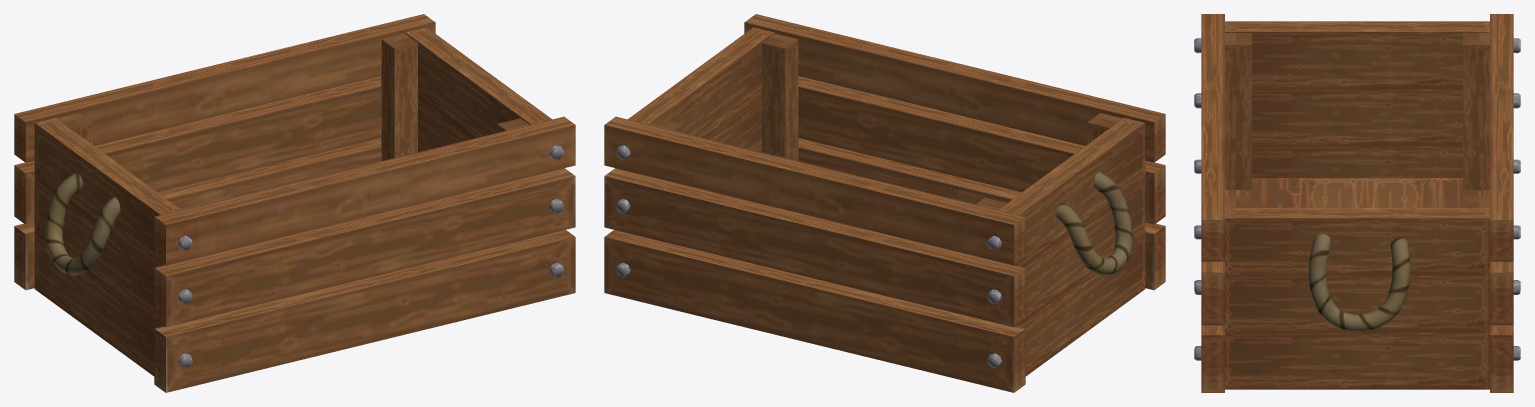
File: FarmCrate_Empty.glb
The picture shows the model from 3 angles, left to right: view 1: azimuth 30°, elevation 25°; view 2: azimuth 150°, elevation 25°; view 3: azimuth 270°, elevation 25°; orthographic projection. The views are drawn at different scales.
Visible parts, largest first — view 1: FarmCrate_Empty; view 2: FarmCrate_Empty; view 3: FarmCrate_Empty.
Boxes of the visible parts, bbox=[...] form: FarmCrate_Empty: bbox=[14, 14, 575, 392]; FarmCrate_Empty: bbox=[604, 14, 1165, 392]; FarmCrate_Empty: bbox=[1194, 14, 1520, 392].
Bounding box in the file's own units: 0.7138 × 0.2438 × 0.4142.
Materials: 2 (2 with a texture image).
